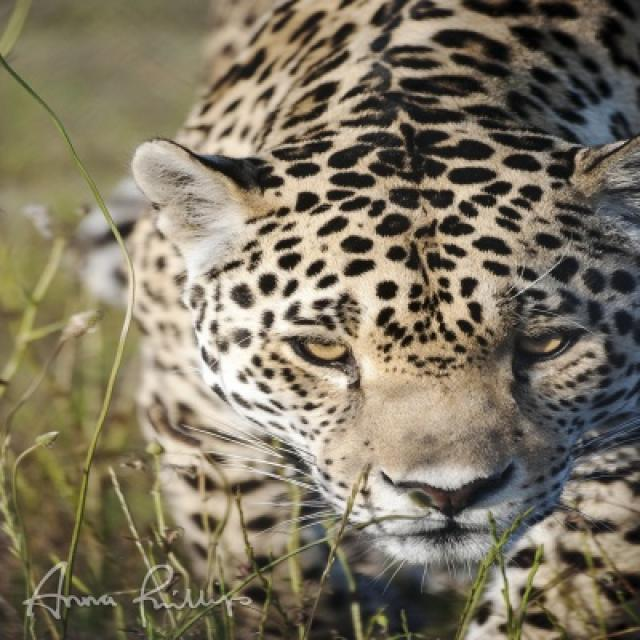Jaguar: (125, 0, 638, 638)
